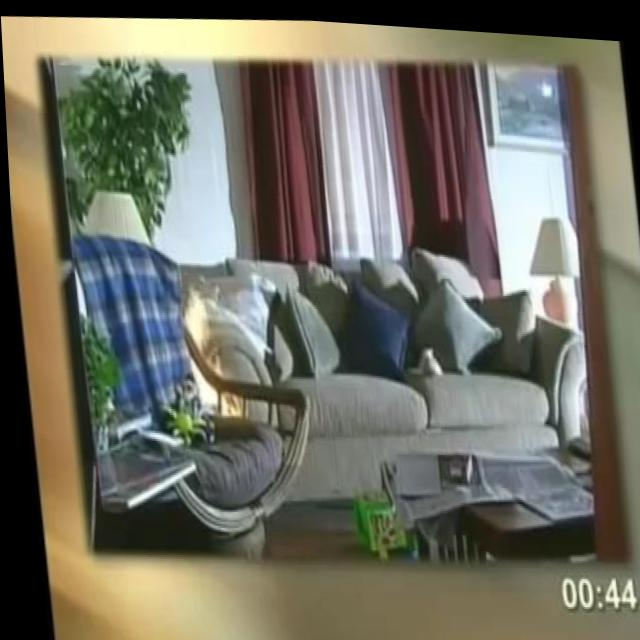fire: (174, 275, 245, 419)
